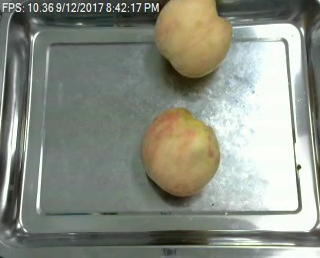Peach: (140, 106, 221, 196), (151, 0, 231, 78)
